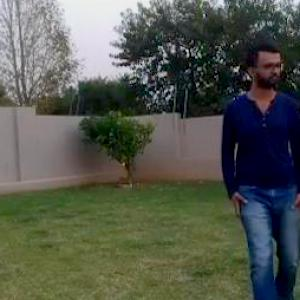follow: (222, 36, 299, 299)
